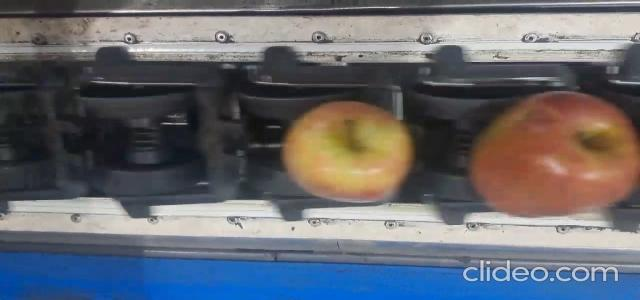apple: (470, 93, 640, 215), (282, 101, 414, 202)
